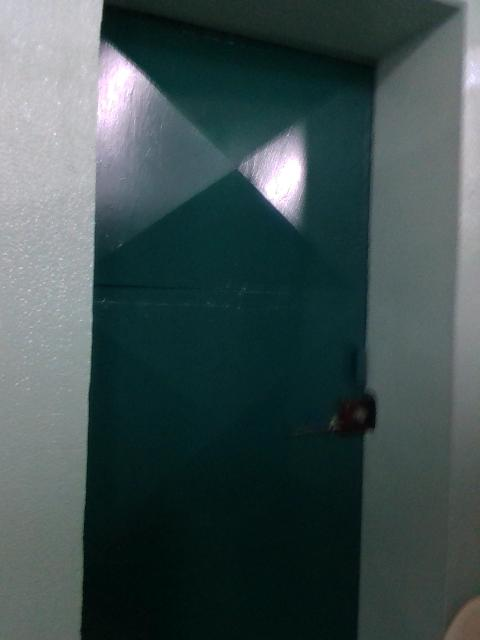door: (82, 1, 377, 640)
